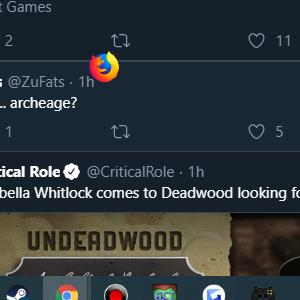firefox: (88, 51, 120, 83)
